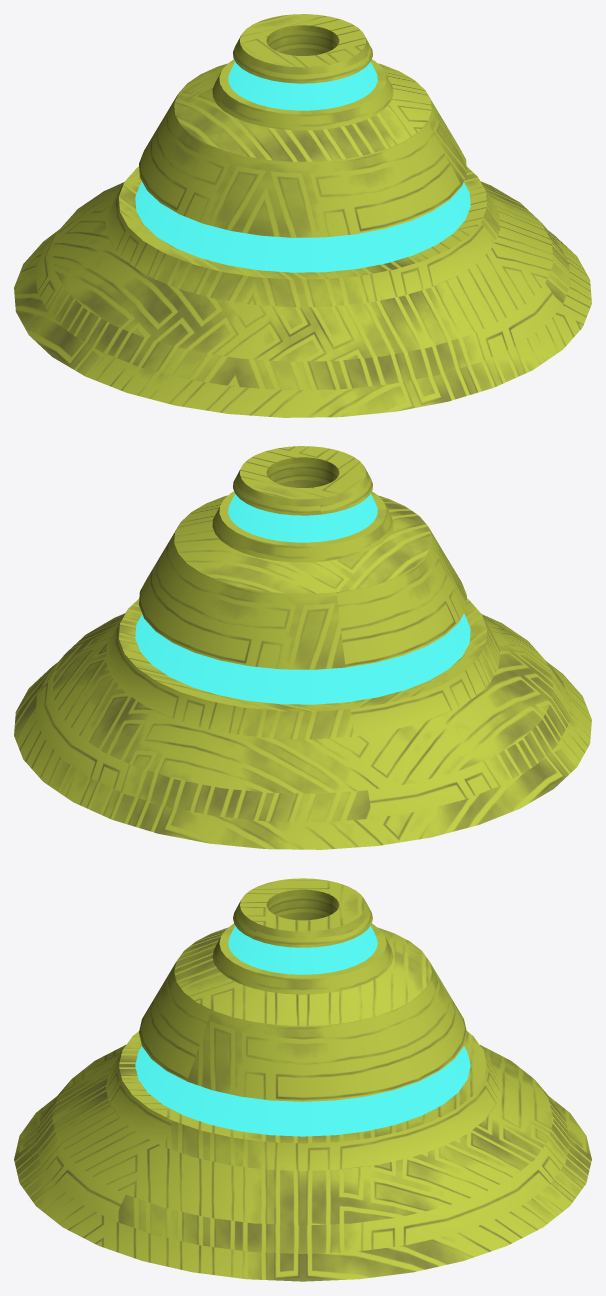
Rendered from anthill.glb.
The picture shows the model from 3 angles, top to bottom: view 1: azimuth 30°, elevation 25°; view 2: azimuth 150°, elevation 25°; view 3: azimuth 270°, elevation 25°; orthographic projection.
Parts seen in each view (by area): view 1: Cylinder; view 2: Cylinder; view 3: Cylinder.
Part boxes in pixels (x1=…): Cylinder: x1=14, y1=14, x2=591, y2=417; Cylinder: x1=14, y1=446, x2=591, y2=849; Cylinder: x1=14, y1=878, x2=591, y2=1281.
Size of the model in its own units: 3.83 by 1.86 by 3.83.
2 materials, 1 textured.
